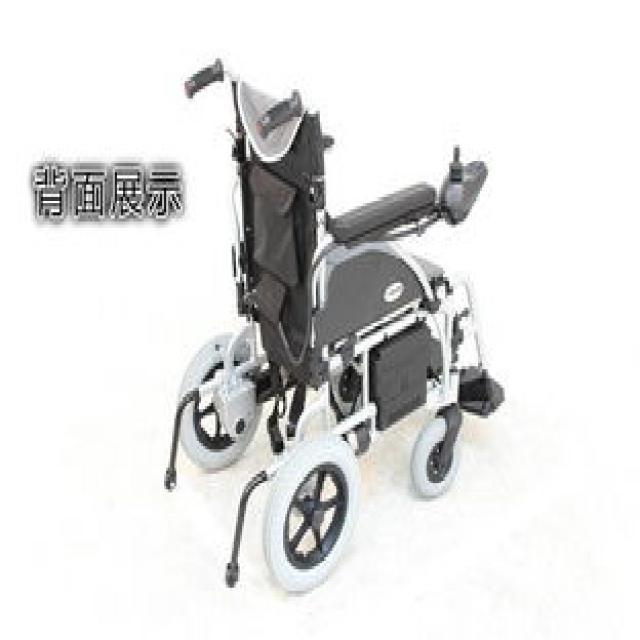wheelchair: (156, 55, 505, 603)
